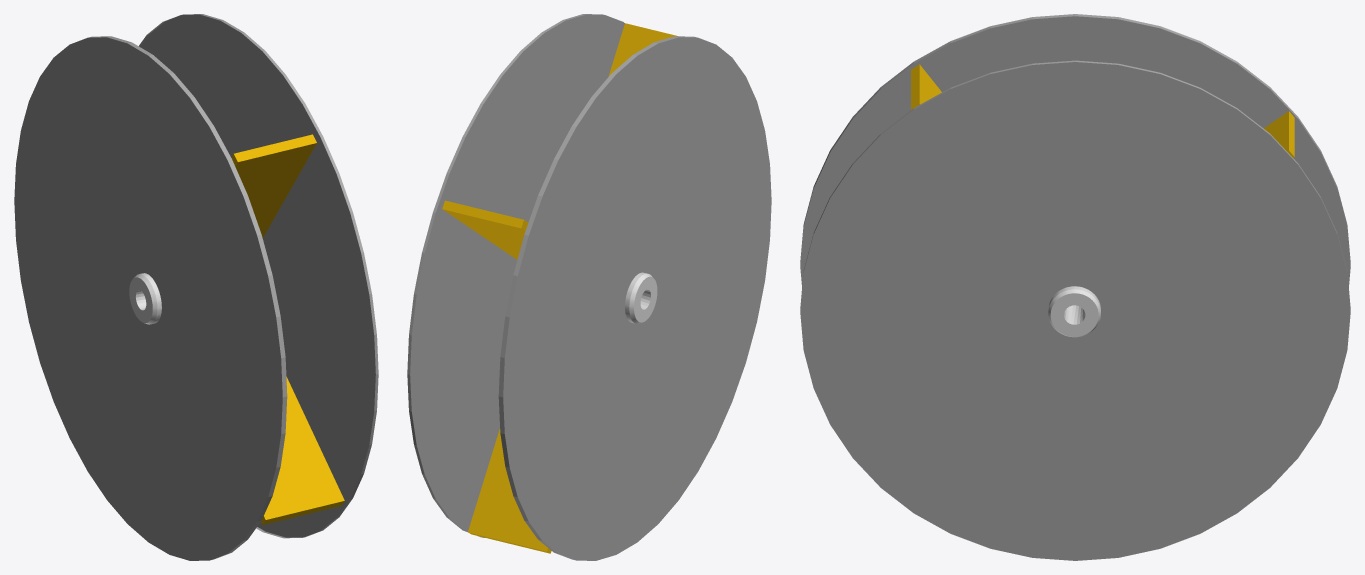
The model's file is Goldberg samo vrteskica 27. maj.fbx.
The picture shows the model from 3 angles, left to right: view 1: azimuth 30°, elevation 25°; view 2: azimuth 150°, elevation 25°; view 3: azimuth 270°, elevation 25°; orthographic projection. The views are drawn at different scales.
Visible parts, largest first — view 1: Tockic_vetrenjaca; view 2: Tockic_vetrenjaca; view 3: Tockic_vetrenjaca.
Boxes of the visible parts, bbox=[...] form: Tockic_vetrenjaca: bbox=[14, 14, 378, 560]; Tockic_vetrenjaca: bbox=[407, 14, 771, 560]; Tockic_vetrenjaca: bbox=[800, 14, 1350, 560].
Size of the model in its own units: 1.92 by 7.88 by 7.88.
